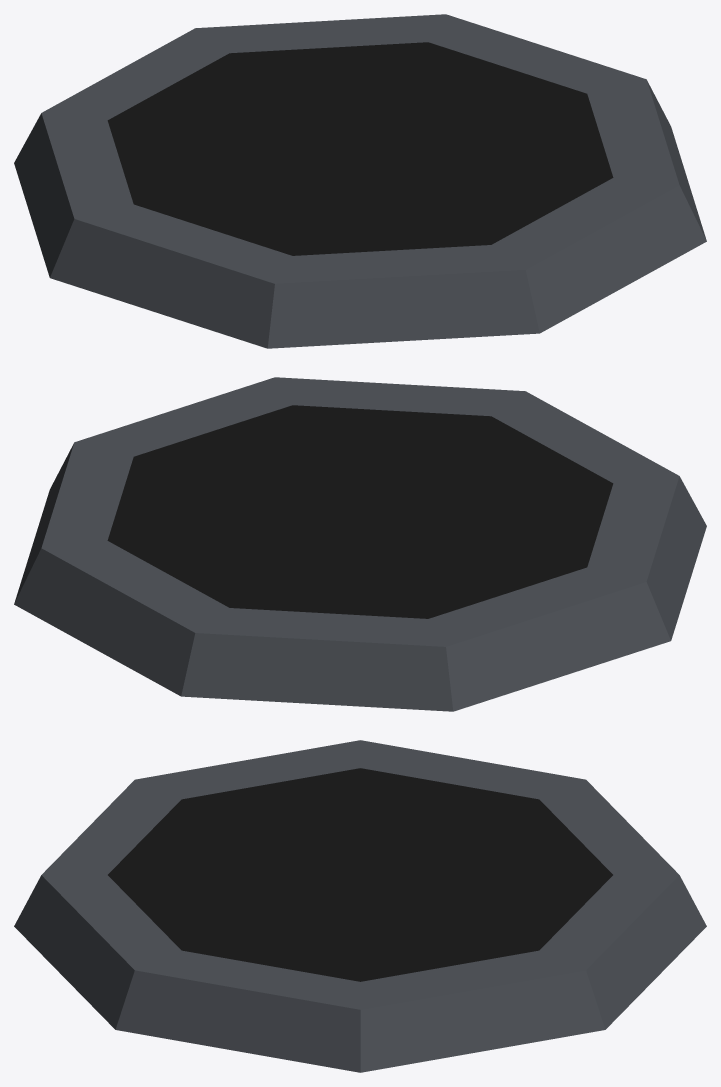
The model's file is SM_Gen_Prop_Button_02.obj.
The picture shows the model from 3 angles, top to bottom: view 1: azimuth 30°, elevation 25°; view 2: azimuth 150°, elevation 25°; view 3: azimuth 270°, elevation 25°; orthographic projection. The views are drawn at different scales.
Parts seen in each view (by area): view 1: SM_Gen_Prop_Button_02_0; view 2: SM_Gen_Prop_Button_02_0; view 3: SM_Gen_Prop_Button_02_0.
Boxes of the visible parts, bbox=[...] form: SM_Gen_Prop_Button_02_0: bbox=[14, 14, 706, 348]; SM_Gen_Prop_Button_02_0: bbox=[14, 377, 706, 711]; SM_Gen_Prop_Button_02_0: bbox=[14, 740, 706, 1072].
Bounding box in the file's own units: 0.1297 × 0.0106 × 0.1297.
Materials: 1 (1 with a texture image).
